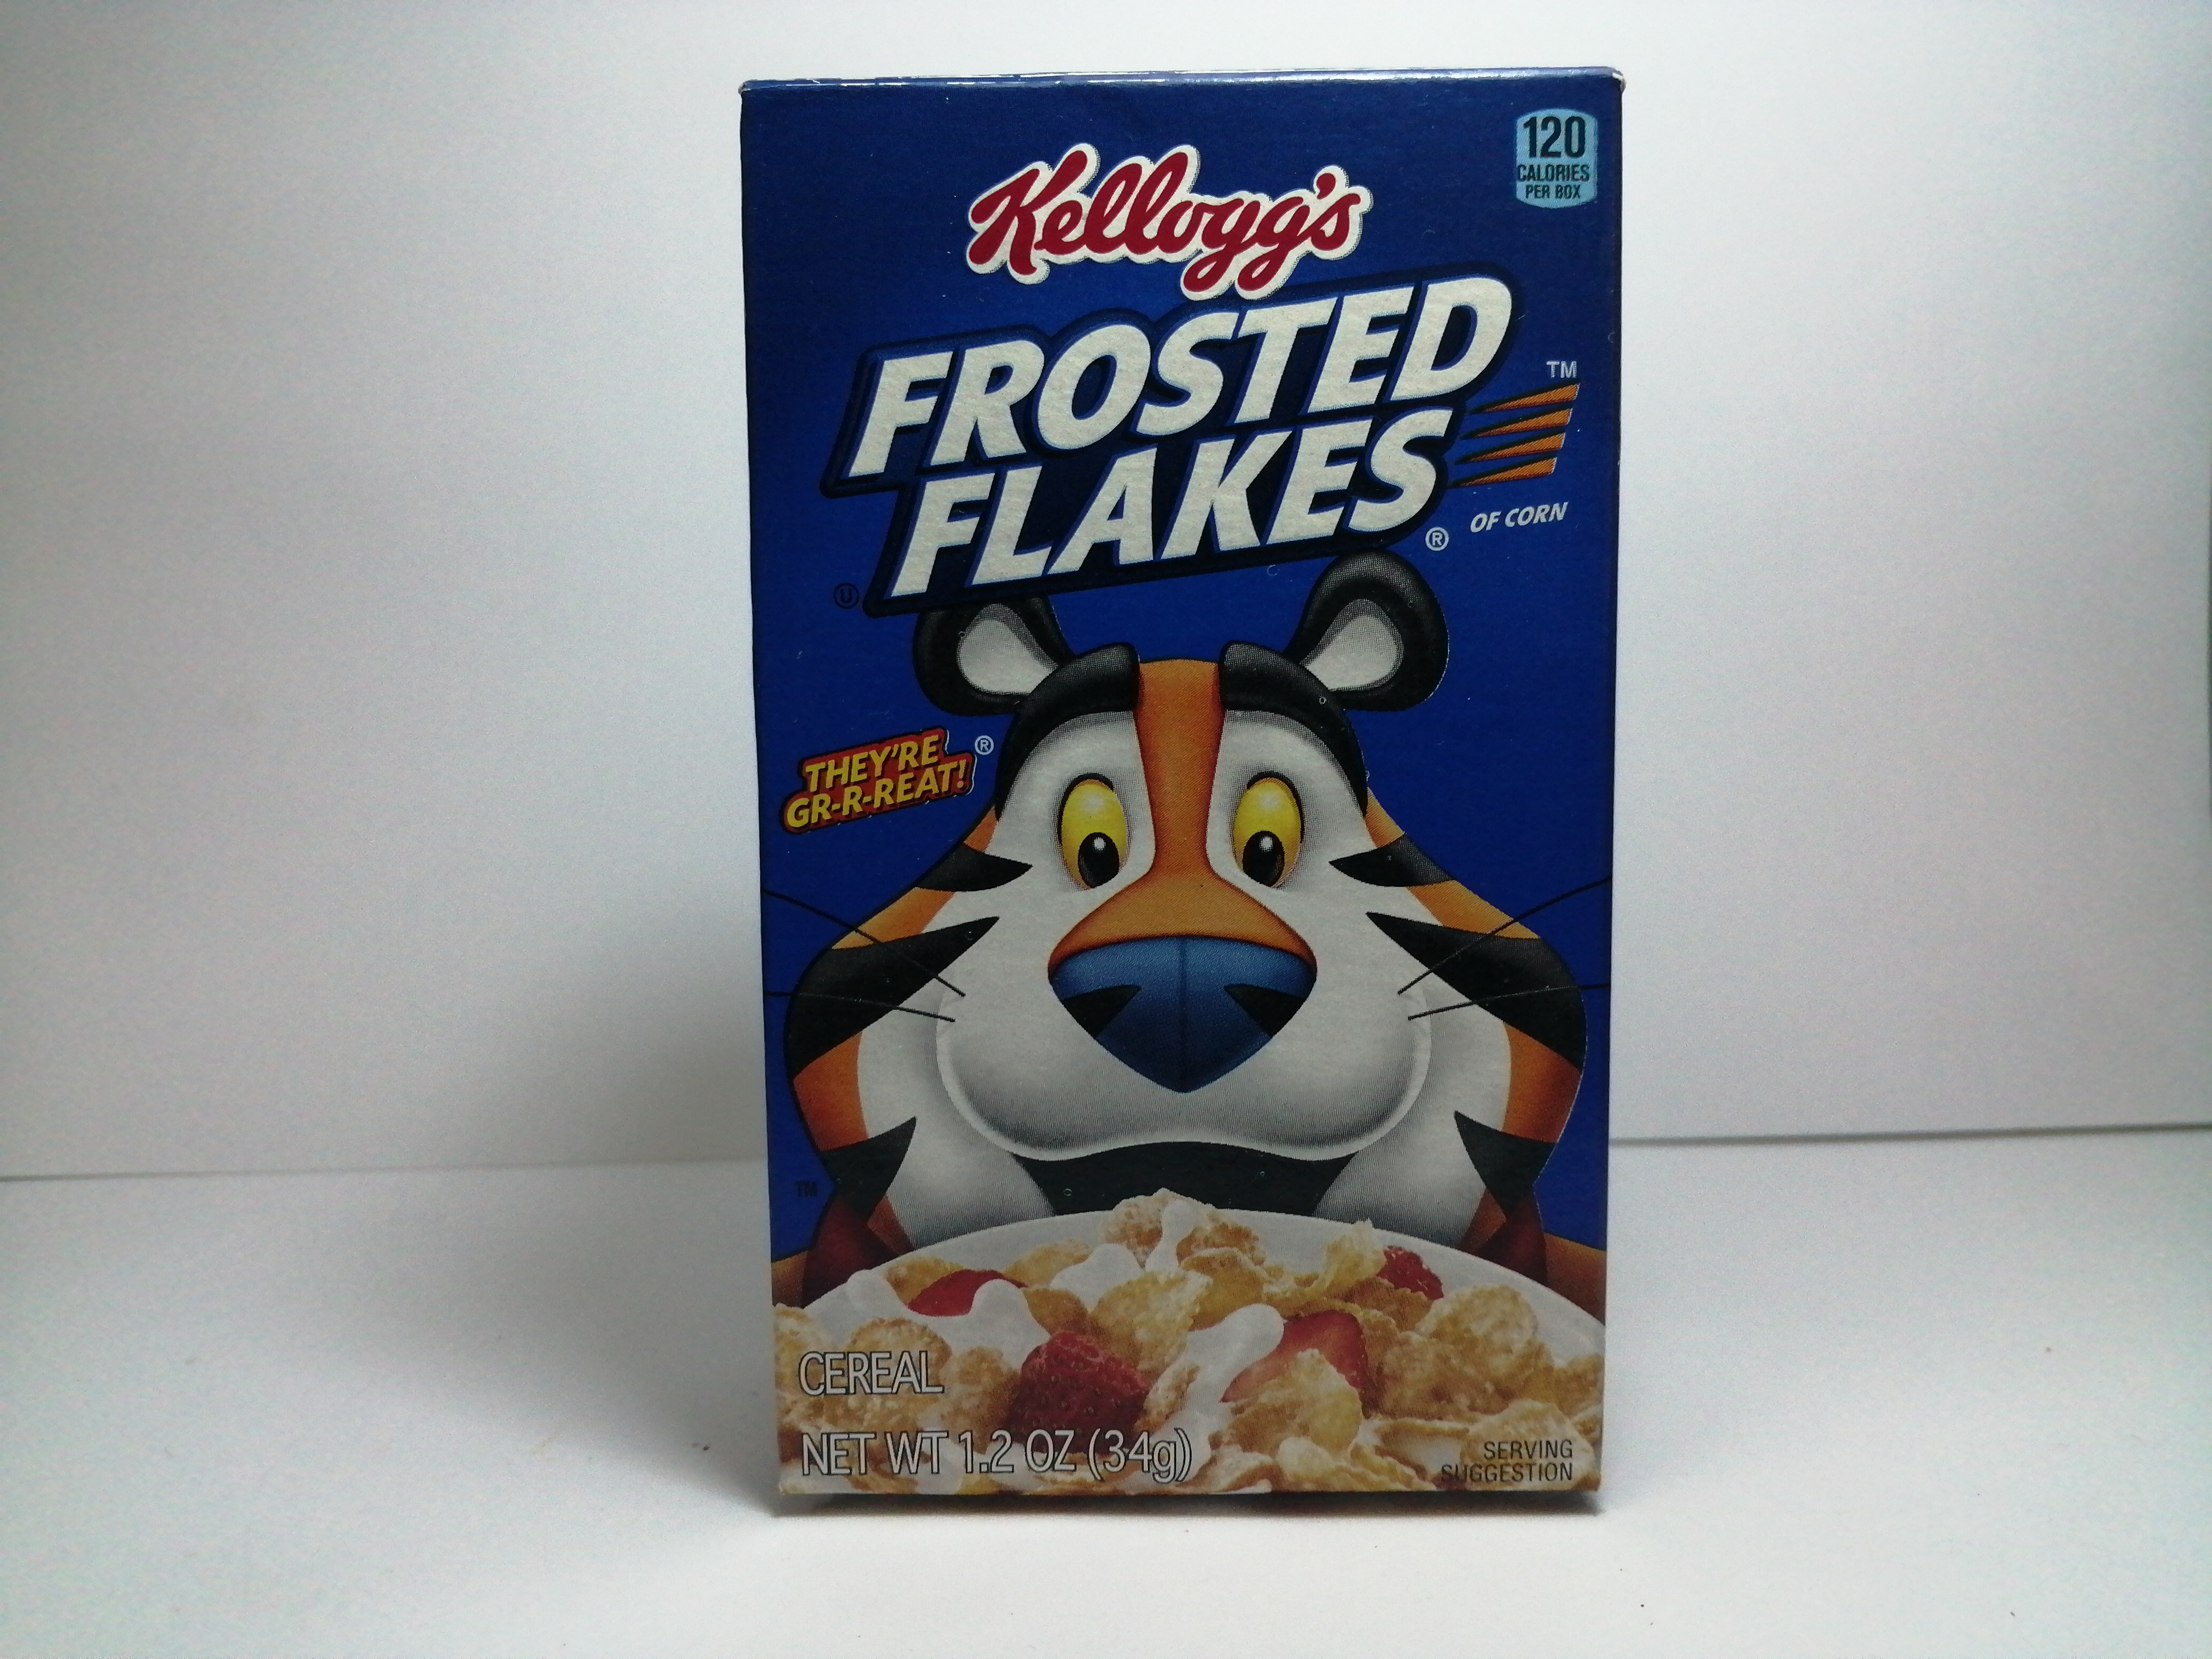cereal azucarado: (716, 40, 1642, 1534)
